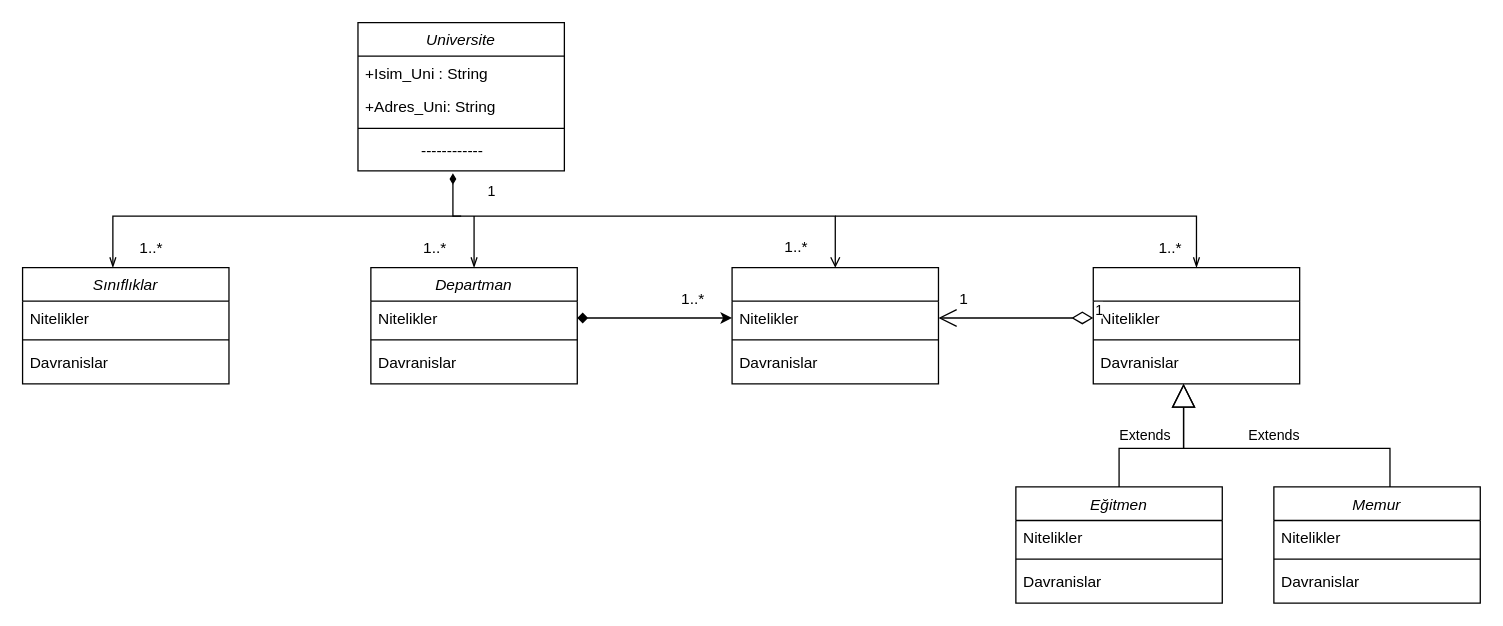
The diagram is 1503 pixels wide and 626 high, and some of its shapes have lost their labels. Here are the shapes that lost their labels. From the top down, the box of each, then its label:
(731, 266, 938, 384): Ofis
(1092, 266, 1300, 384): Çalışanlar
